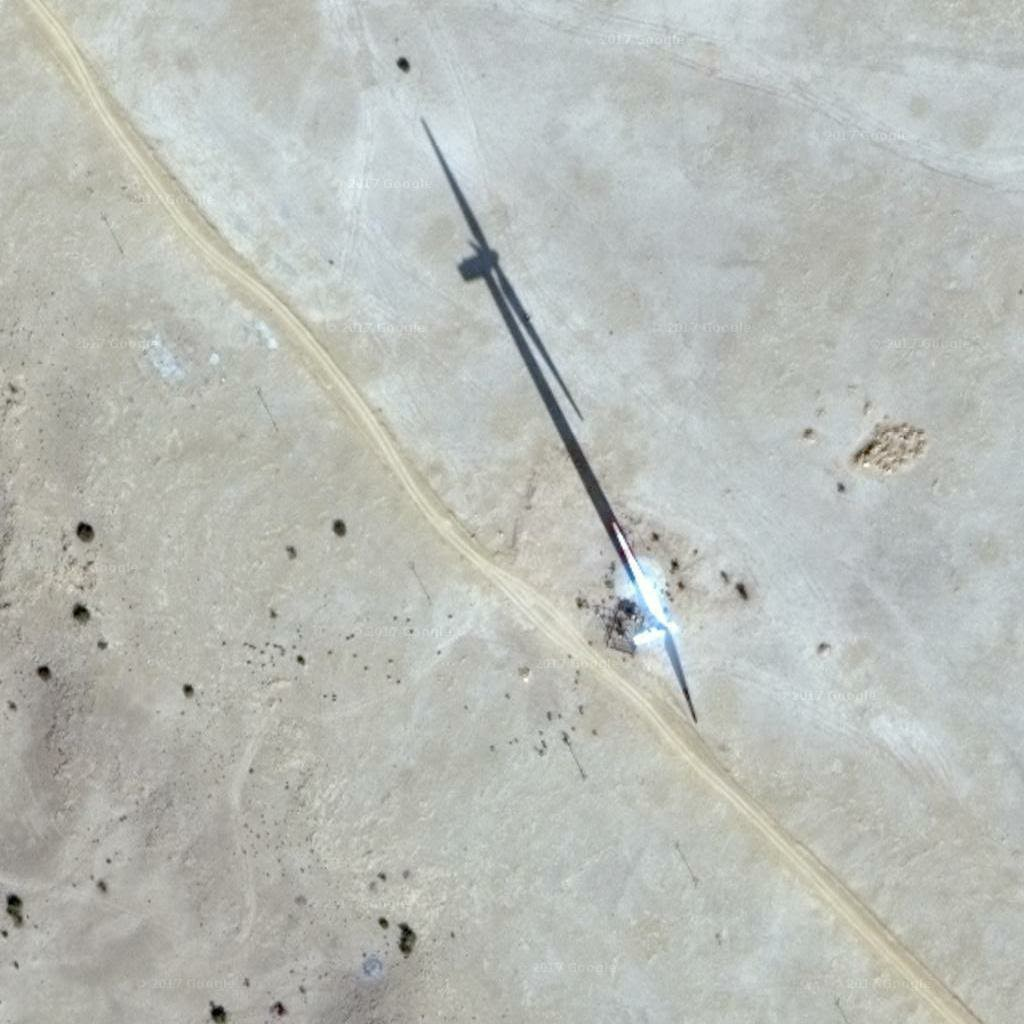Windmill: (405, 105, 664, 585)
